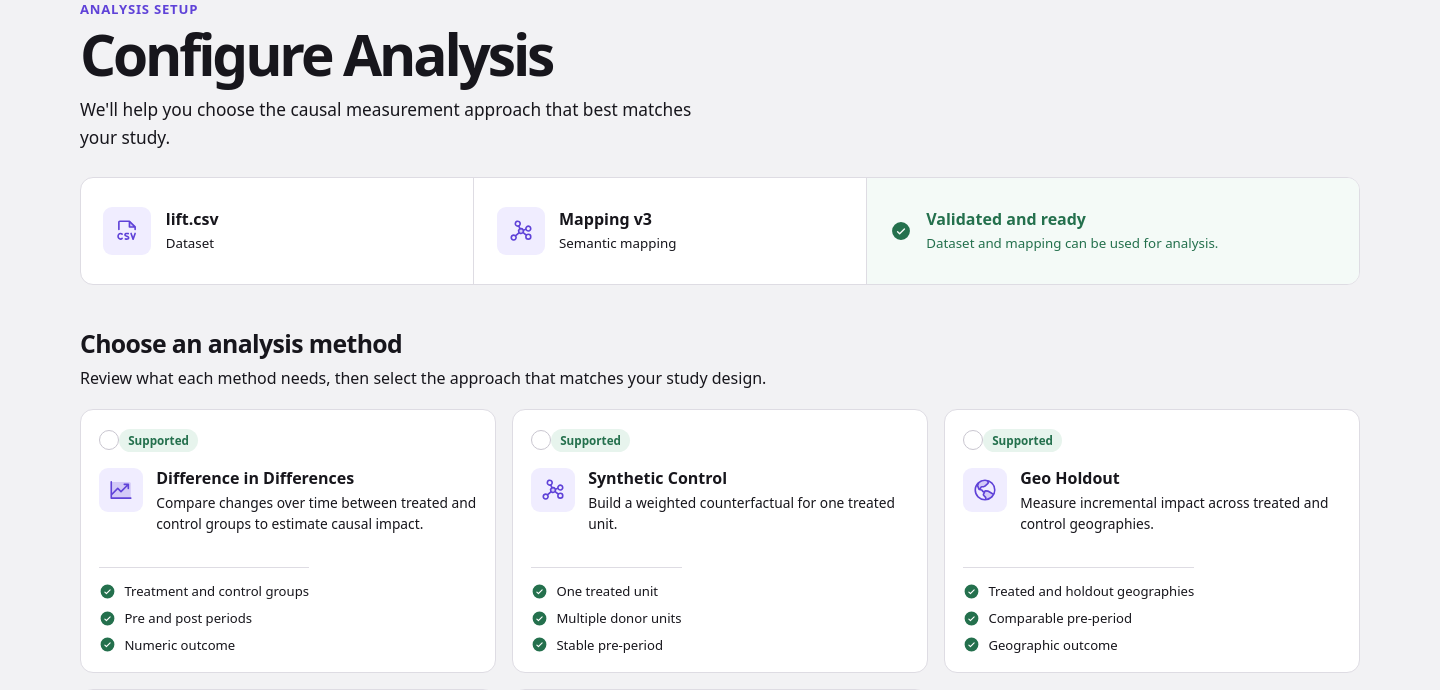
Test case: Analysis Configuration estimator selection › requires a valid treatment analysis period before continuing
The width and height of the screenshot is (1440, 690).
Click the button "Difference in Differences" at (159, 440), box x1=80 y1=409 x2=496 y2=673
(page scrolled)
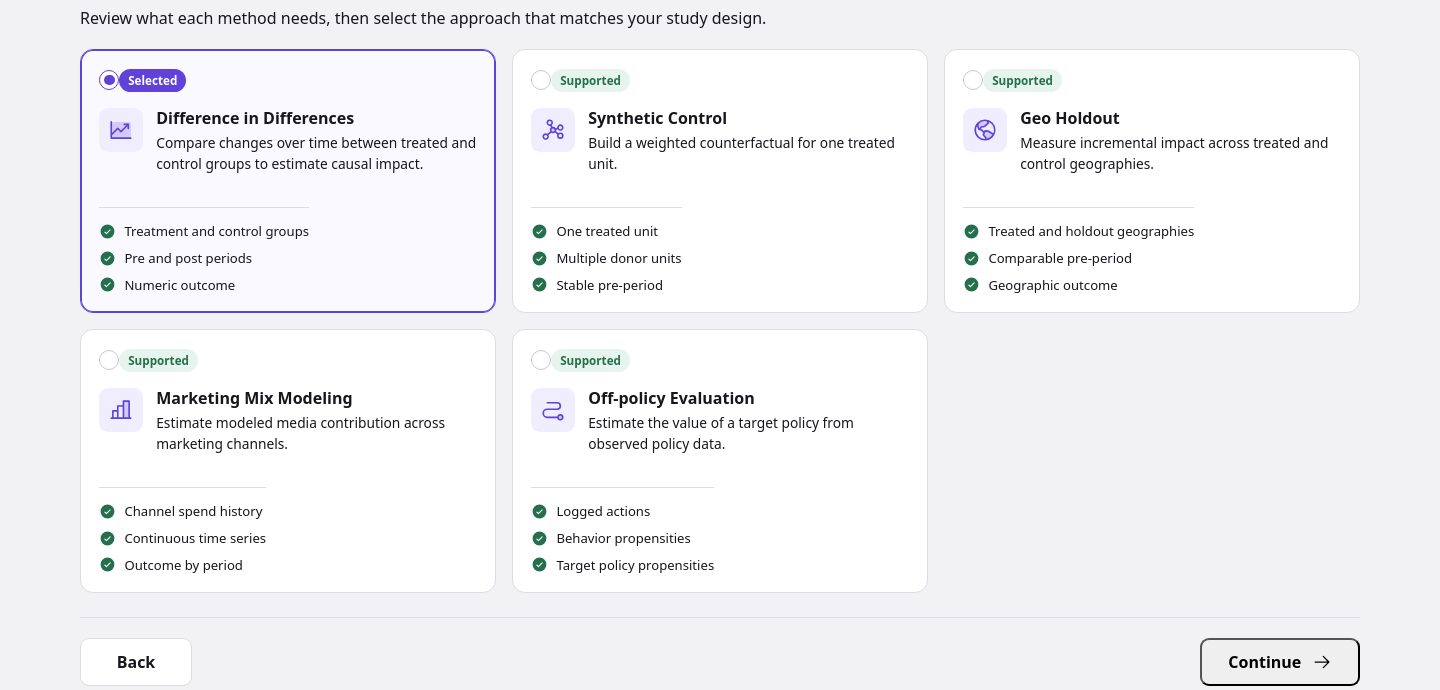
Click the button "Continue" at (1280, 662), box x1=1200 y1=638 x2=1360 y2=686
(page scrolled)
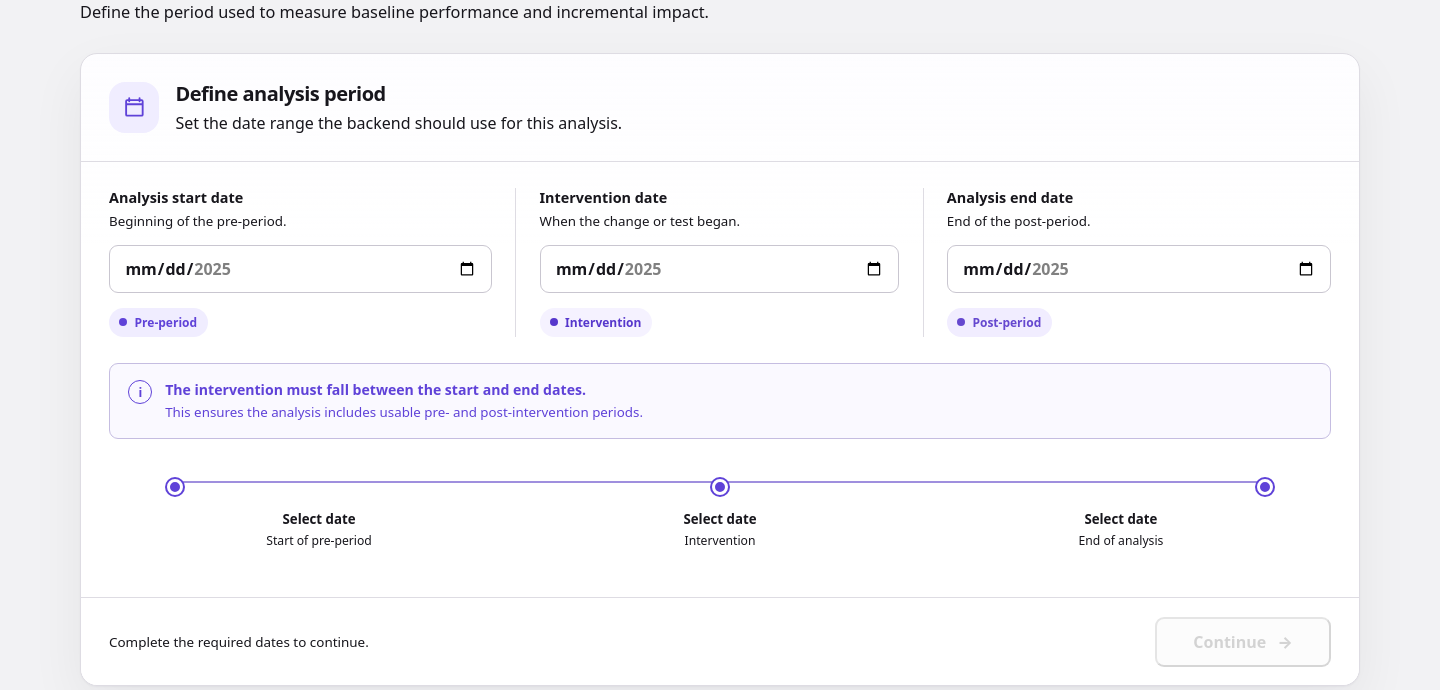
Expected: the button "Continue →" is disabled, x1=1155 y1=617 x2=1331 y2=667
Type "2025-01-01" into the date field labelled "Analysis start date" at (301, 269), box x1=109 y1=245 x2=492 y2=293
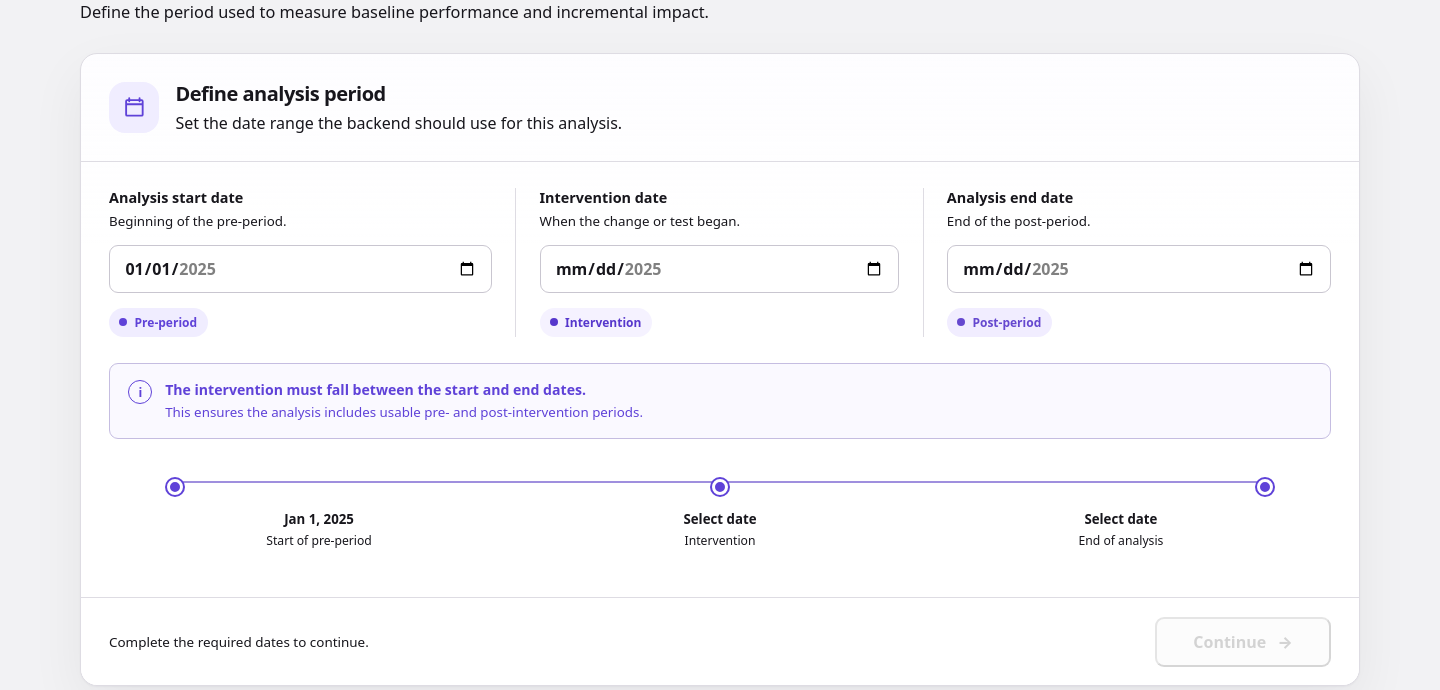
Type "2025-02-01" into the date field labelled "Intervention date" at (720, 269), box x1=540 y1=245 x2=900 y2=293
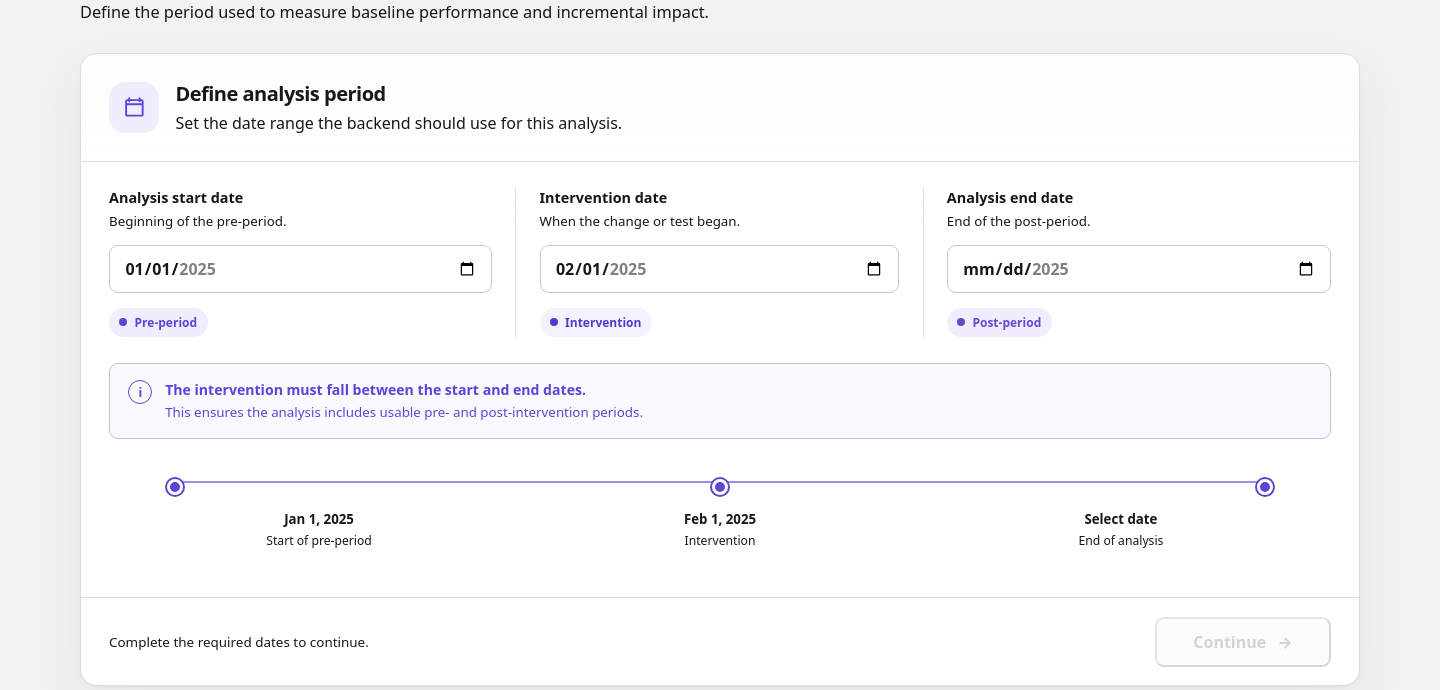
Type "2025-03-31" into the date field labelled "Analysis end date" at (1139, 269), box x1=947 y1=245 x2=1331 y2=293
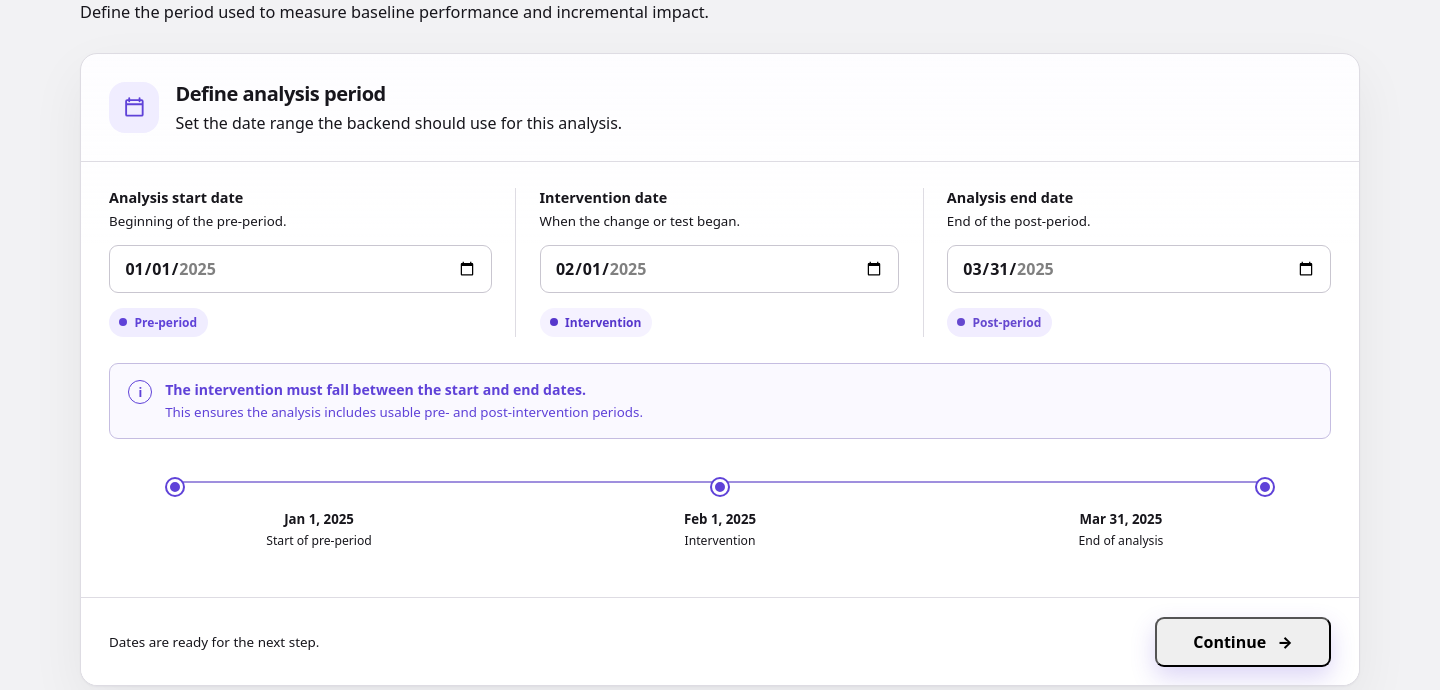
Expected: the button "Continue →" is enabled, x1=1155 y1=617 x2=1331 y2=667
